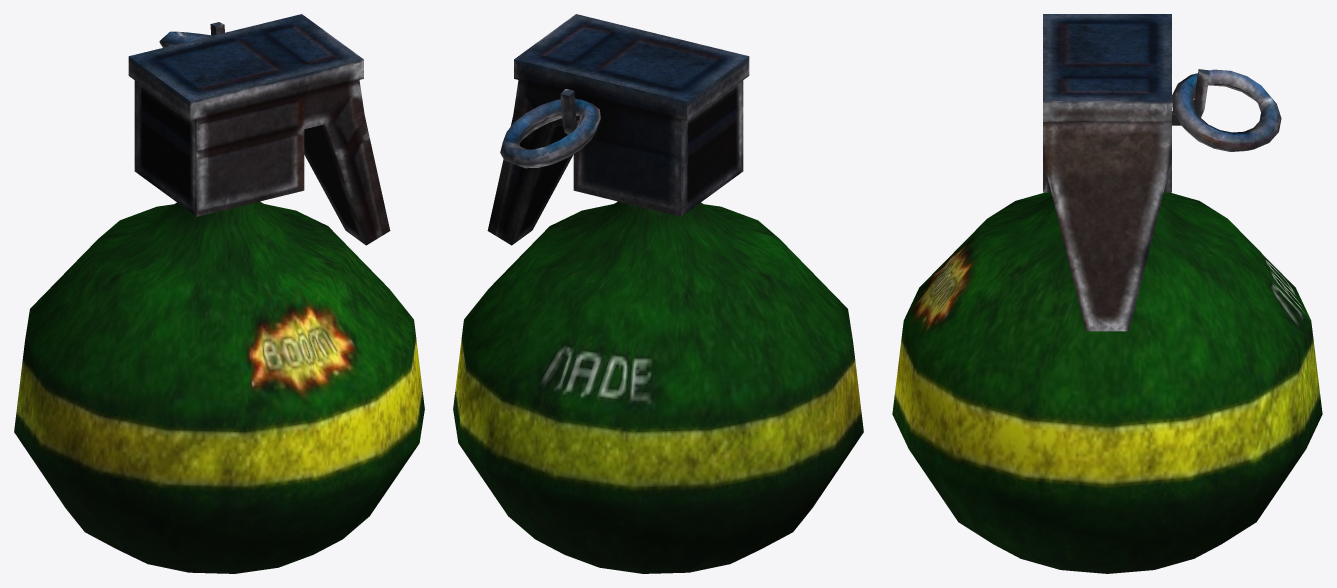
The model's file is frag_grenade.glb.
The picture shows the model from 3 angles, left to right: view 1: azimuth 30°, elevation 25°; view 2: azimuth 150°, elevation 25°; view 3: azimuth 270°, elevation 25°; orthographic projection. The views are drawn at different scales.
Parts seen in each view (by area): view 1: nade_low, nadehaut_low; view 2: nade_low, nadehaut_low, nadehaut_low.001; view 3: nade_low, nadehaut_low, nadehaut_low.001.
Boxes of the visible parts, box(x1,y1,x2,y2) form: nade_low: box(14, 201, 424, 573); nadehaut_low: box(128, 14, 390, 245); nade_low: box(453, 201, 863, 573); nadehaut_low: box(487, 14, 749, 245); nadehaut_low.001: box(500, 98, 600, 168); nade_low: box(892, 192, 1322, 573); nadehaut_low: box(1043, 14, 1209, 331); nadehaut_low.001: box(1172, 69, 1281, 151).
Bounding box in the file's own units: 0.1117 × 0.1413 × 0.1117.
1 material, 1 textured.
